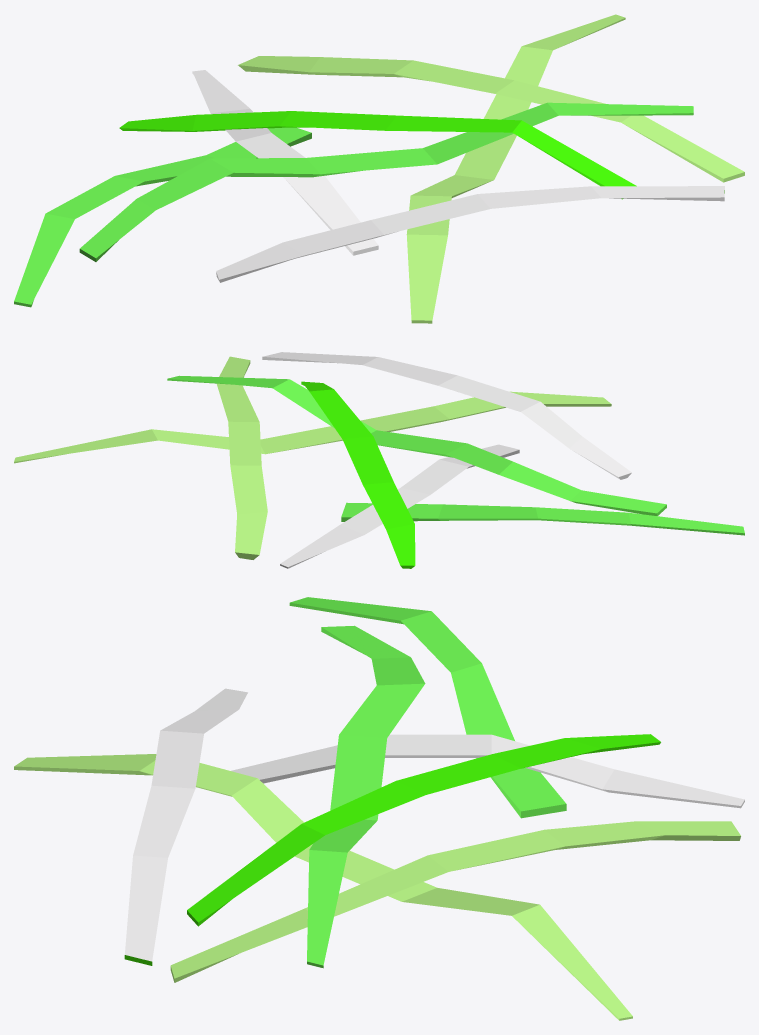
The model's file is cabbage03.obj.
3 views of the same model, one above another, from view 1: azimuth 30°, elevation 25°; view 2: azimuth 150°, elevation 25°; view 3: azimuth 270°, elevation 25° (orthographic). The views are drawn at different scales.
Parts seen in each view (by area): view 1: Cube.001; view 2: Cube.001; view 3: Cube.001.
Part boxes in pixels (box(x1,y1,x2,y2)): Cube.001: box(14, 14, 744, 323); Cube.001: box(14, 352, 744, 568); Cube.001: box(14, 597, 744, 1020).
Size of the model in its own units: 0.1553 by 0.0111 by 0.1119.
1 material, 1 textured.
